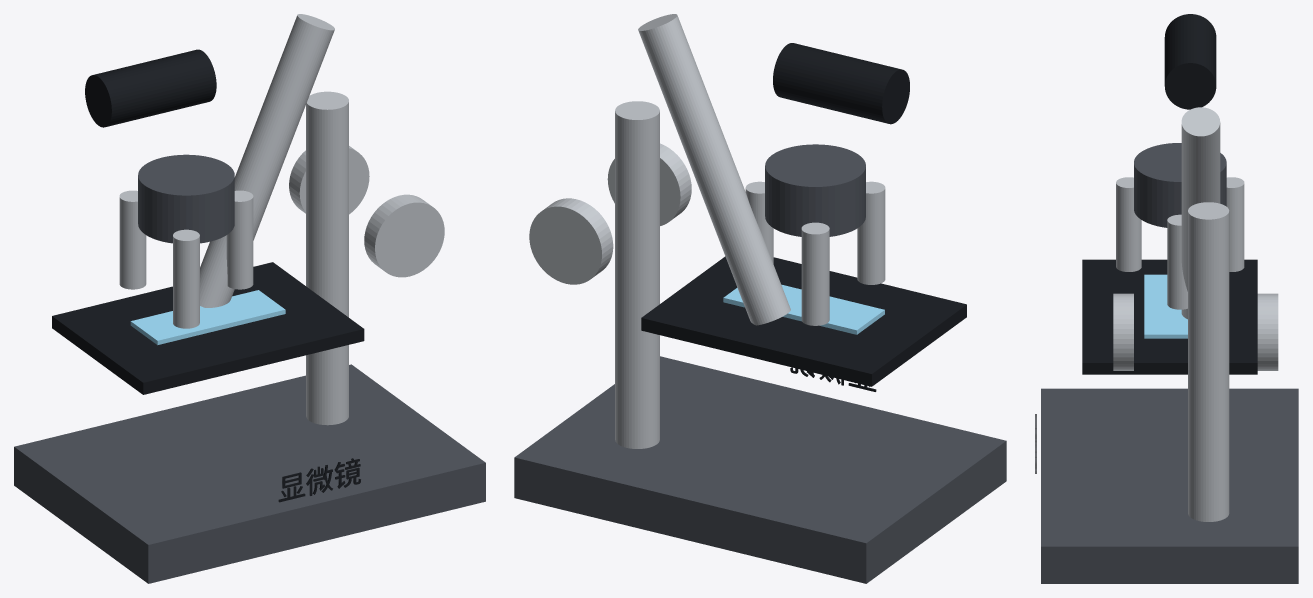
File: asset_microscope.glb
3 views of the same model, side by side, from view 1: azimuth 30°, elevation 25°; view 2: azimuth 150°, elevation 25°; view 3: azimuth 270°, elevation 25° (orthographic). The views are drawn at different scales.
Visible parts, largest first — view 1: wide_base, stage, rear_column, tilted_arm, nosepiece, eyepiece_tube, focus_left, glass_slide, objective_2, objective_0, objective_1, focus_right (+1 smaller); view 2: wide_base, stage, rear_column, tilted_arm, nosepiece, eyepiece_tube, focus_right, objective_1, objective_2, glass_slide, focus_left, objective_0; view 3: wide_base, rear_column, stage, eyepiece_tube, tilted_arm, nosepiece, objective_2, glass_slide, focus_right, focus_left, objective_1, objective_0.
Part boxes in pixels (x1,y1,x2,y2): wide_base: [14, 364, 485, 583]; stage: [52, 262, 364, 394]; rear_column: [306, 91, 348, 425]; tilted_arm: [200, 14, 334, 307]; nosepiece: [138, 154, 234, 243]; eyepiece_tube: [85, 49, 216, 127]; focus_left: [364, 194, 444, 277]; glass_slide: [130, 290, 285, 345]; objective_2: [173, 229, 199, 328]; objective_0: [226, 190, 253, 289]; objective_1: [119, 190, 146, 289]; focus_right: [289, 146, 369, 214]; wide_base: [514, 356, 1006, 583]; stage: [641, 256, 966, 386]; rear_column: [615, 101, 659, 448]; tilted_arm: [638, 14, 790, 325]; nosepiece: [765, 144, 865, 236]; eyepiece_tube: [773, 43, 909, 124]; focus_right: [529, 198, 613, 284]; objective_1: [801, 222, 829, 325]; objective_2: [857, 181, 885, 284]; glass_slide: [723, 284, 884, 334]; focus_left: [607, 143, 691, 225]; objective_0: [745, 181, 773, 263]; wide_base: [1041, 388, 1298, 583]; rear_column: [1188, 202, 1229, 521]; stage: [1082, 259, 1257, 374]; eyepiece_tube: [1164, 14, 1216, 109]; tilted_arm: [1181, 107, 1220, 319]; nosepiece: [1134, 143, 1226, 227]; objective_2: [1116, 177, 1141, 271]; glass_slide: [1144, 274, 1187, 338]; focus_right: [1257, 293, 1278, 370]; focus_left: [1113, 293, 1133, 370]; objective_1: [1226, 177, 1244, 271]; objective_0: [1167, 214, 1187, 309].
Bounding box in the file's own units: 1.45 × 1.84 × 1.02.
